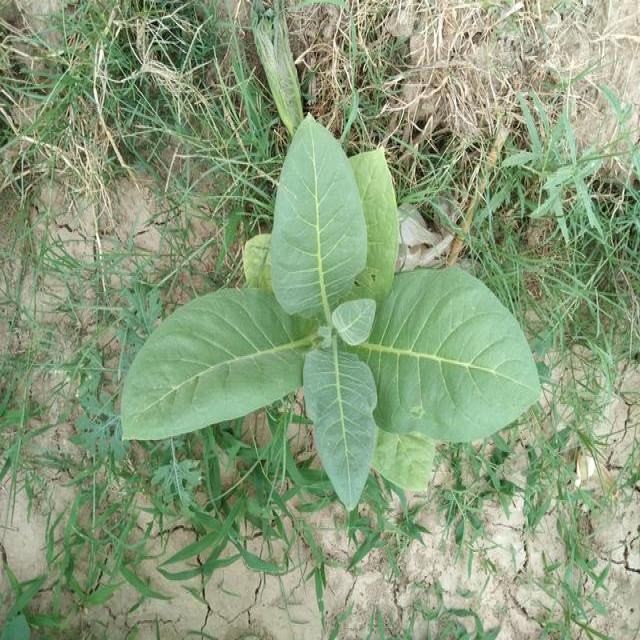crop: (113, 108, 546, 511)
